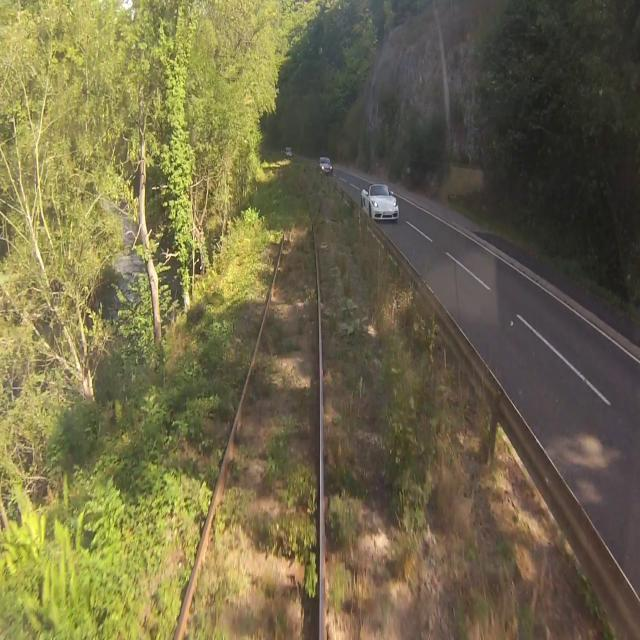Plant: (113, 468, 212, 639), (188, 303, 261, 456), (238, 160, 316, 303), (320, 262, 367, 491), (187, 485, 253, 639), (244, 308, 302, 411), (261, 505, 319, 597), (328, 560, 376, 614), (147, 574, 183, 639), (286, 363, 312, 438), (264, 414, 292, 481), (327, 489, 359, 546), (286, 457, 317, 511), (229, 440, 258, 474), (184, 452, 199, 475), (216, 427, 228, 451), (207, 465, 220, 484)
